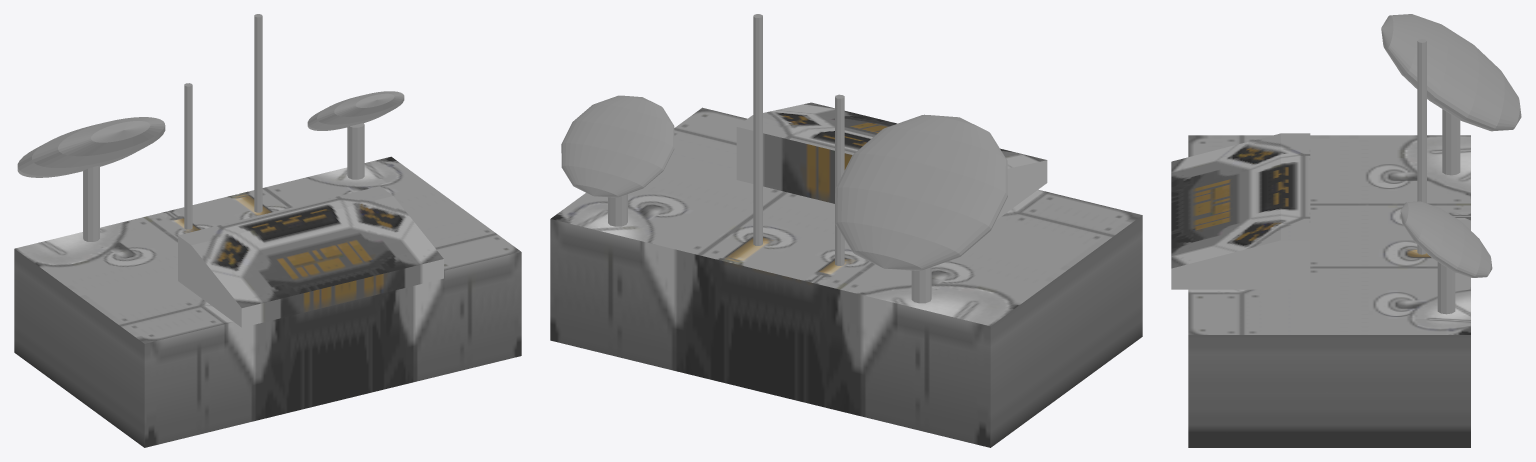
Rendered from Building_CommsConsole.glb.
3 views of the same model, side by side, from view 1: azimuth 30°, elevation 25°; view 2: azimuth 150°, elevation 25°; view 3: azimuth 270°, elevation 25° (orthographic). The views are drawn at different scales.
Parts seen in each view (by area): view 1: CommsConsole; view 2: CommsConsole; view 3: CommsConsole.
Part boxes in pixels (box(x1,y1,x2,y2)): CommsConsole: box(14, 14, 521, 447); CommsConsole: box(550, 14, 1142, 447); CommsConsole: box(1171, 14, 1521, 447).
Size of the model in its own units: 3.03 by 2.3 by 2.25.
1 material, 1 textured.
